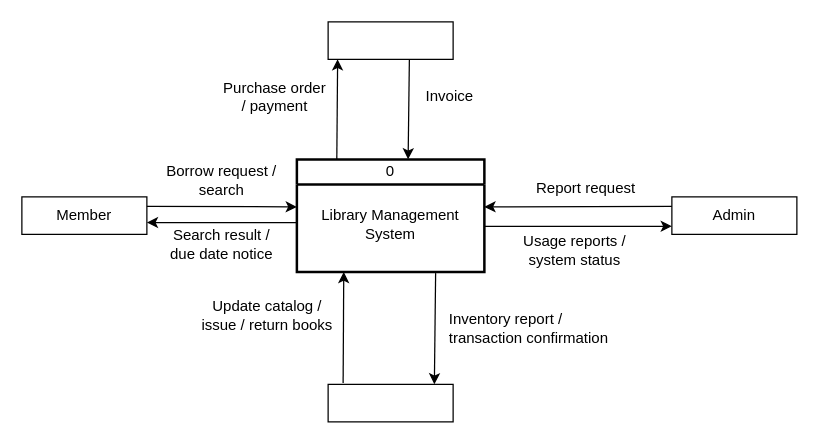
This 819x444 diagram has some shape labels left out. Here are the shapes that lost their labels. From the top down, the centre of each, then its label:
At point 390,40: "Supplier".
At point 390,402: "Librarian".
